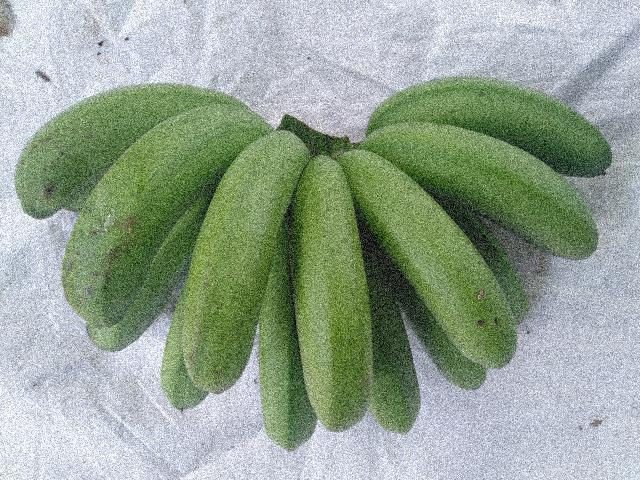unripe: (362, 104, 605, 283), (170, 99, 316, 393), (56, 116, 237, 322), (281, 150, 379, 462), (369, 171, 518, 360), (403, 54, 616, 174), (11, 61, 184, 199), (357, 294, 430, 436)
